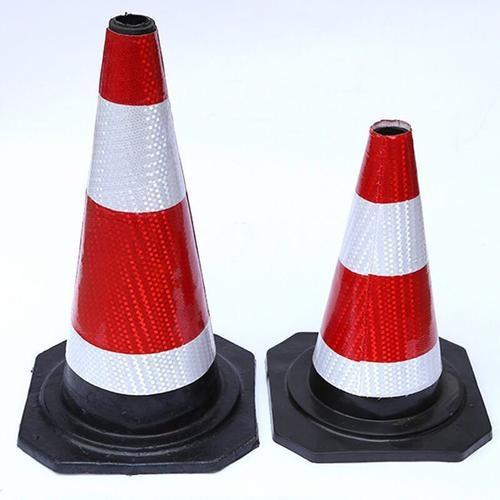cone_barrel: (49, 15, 238, 431), (300, 118, 458, 421)
